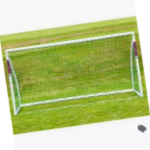goals: (5, 31, 143, 115)
